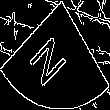N_NE: (31, 23, 79, 87)
